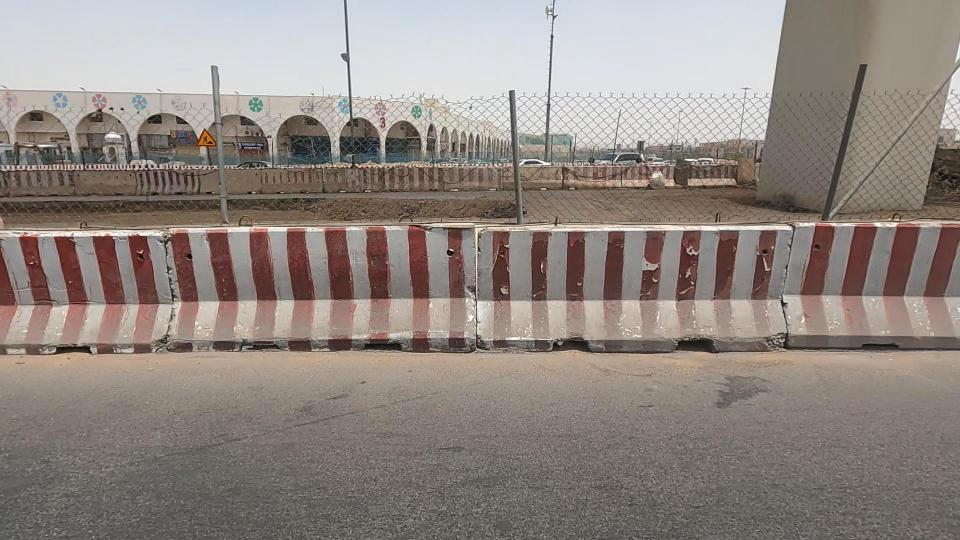CONSTRUCTION_ROAD: (0, 135, 510, 426), (302, 152, 794, 418), (600, 148, 960, 408)
